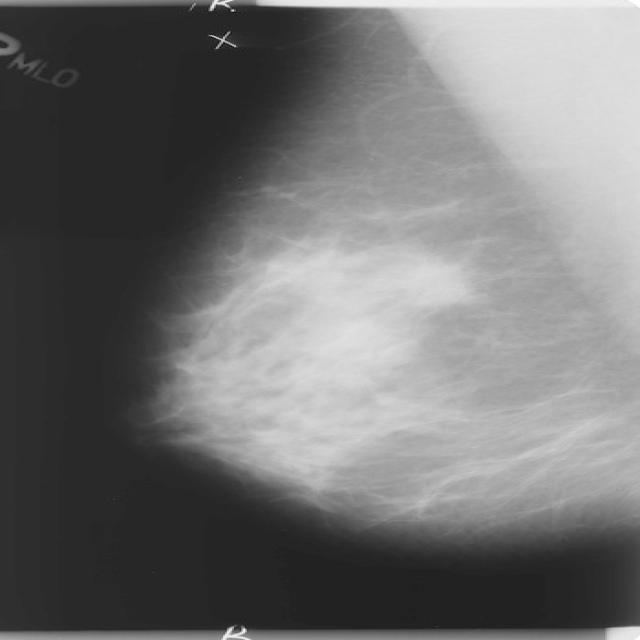tumour: (391, 252, 468, 303)
